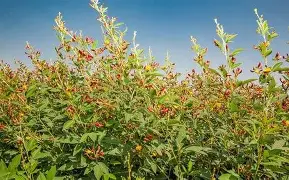crops: (0, 13, 282, 173), (145, 124, 206, 178), (2, 132, 56, 179)
